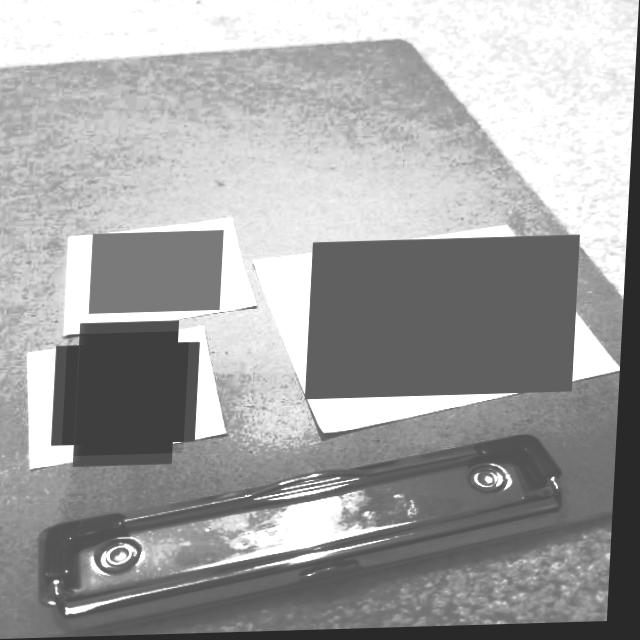qr_code: (309, 238, 583, 401), (66, 332, 193, 457), (92, 232, 226, 315)
